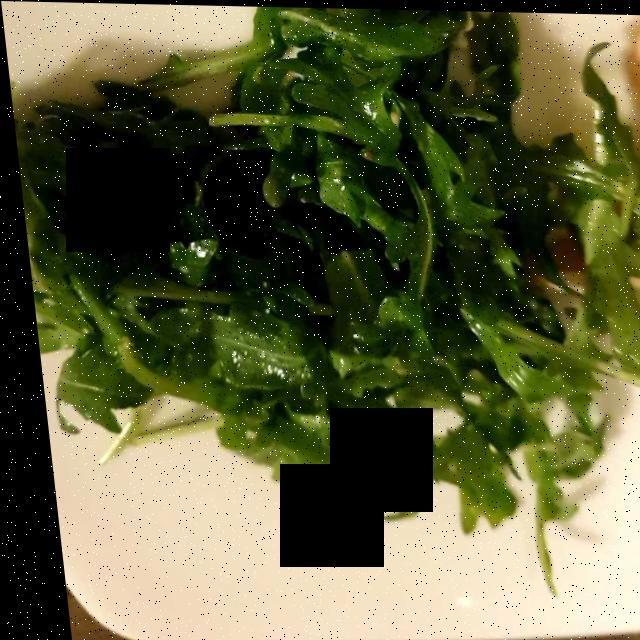salad: (24, 18, 640, 527)
